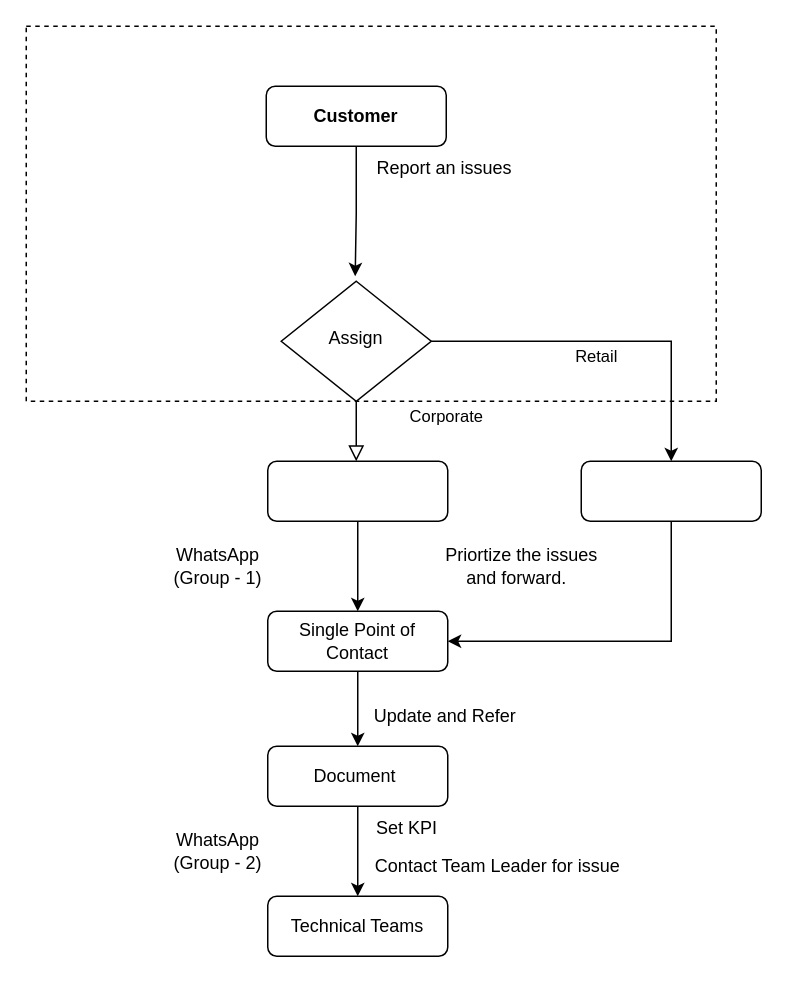
Image size: 788x983. Some labels were removed from this diagram. Each missing label, with the centre of its shape:
"Project Manager (Corp) / Client" goes at pixel 357 490.
"Project Manager (Home) / Client" goes at pixel 670 490.
